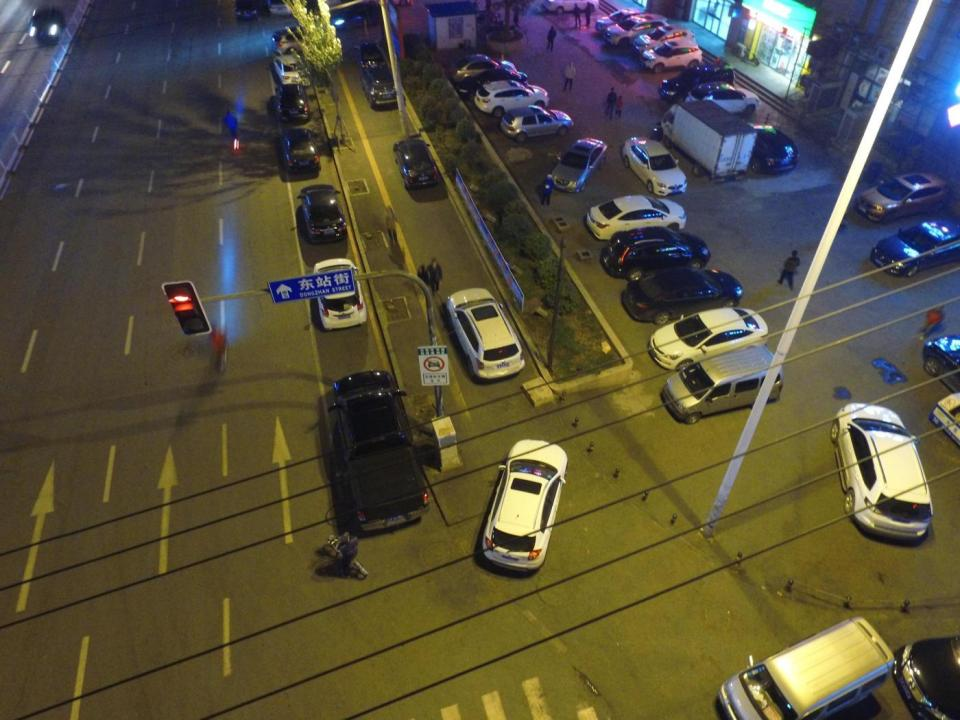car: (830, 402, 934, 544), (483, 439, 568, 570), (647, 309, 770, 370), (448, 286, 526, 380), (623, 270, 740, 320), (893, 635, 956, 720), (603, 230, 712, 278), (871, 220, 960, 278), (854, 172, 944, 220), (583, 195, 685, 237), (314, 257, 368, 329), (624, 135, 686, 196), (552, 138, 606, 193), (473, 78, 550, 113), (301, 186, 348, 243), (747, 124, 797, 176), (501, 109, 573, 141), (687, 81, 756, 113), (657, 67, 733, 96), (396, 138, 439, 189), (280, 127, 322, 178), (922, 332, 960, 387), (642, 38, 704, 68), (448, 53, 517, 79), (457, 72, 531, 96), (636, 26, 696, 52), (365, 68, 402, 110), (274, 49, 310, 87), (276, 83, 310, 123), (594, 9, 648, 31), (30, 7, 63, 38), (356, 41, 388, 70), (268, 0, 295, 16), (234, 3, 257, 17)
truck: (334, 370, 431, 531), (660, 101, 756, 182)
van: (716, 616, 895, 720), (663, 345, 783, 424), (604, 13, 669, 47), (272, 28, 323, 54)
